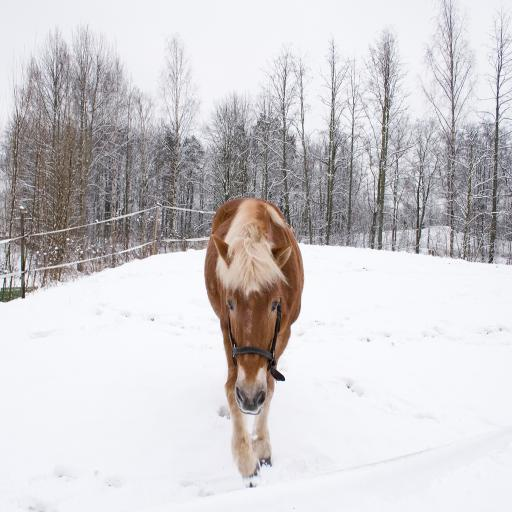horse: (200, 196, 304, 486)
